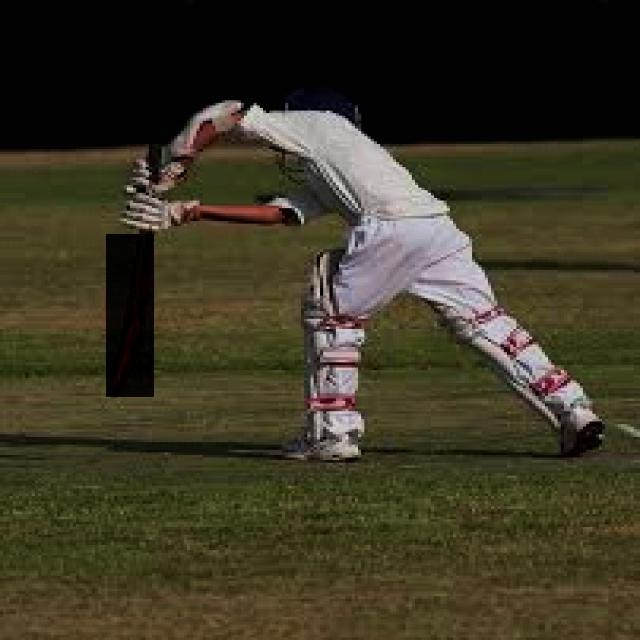bat: (108, 228, 151, 395)
